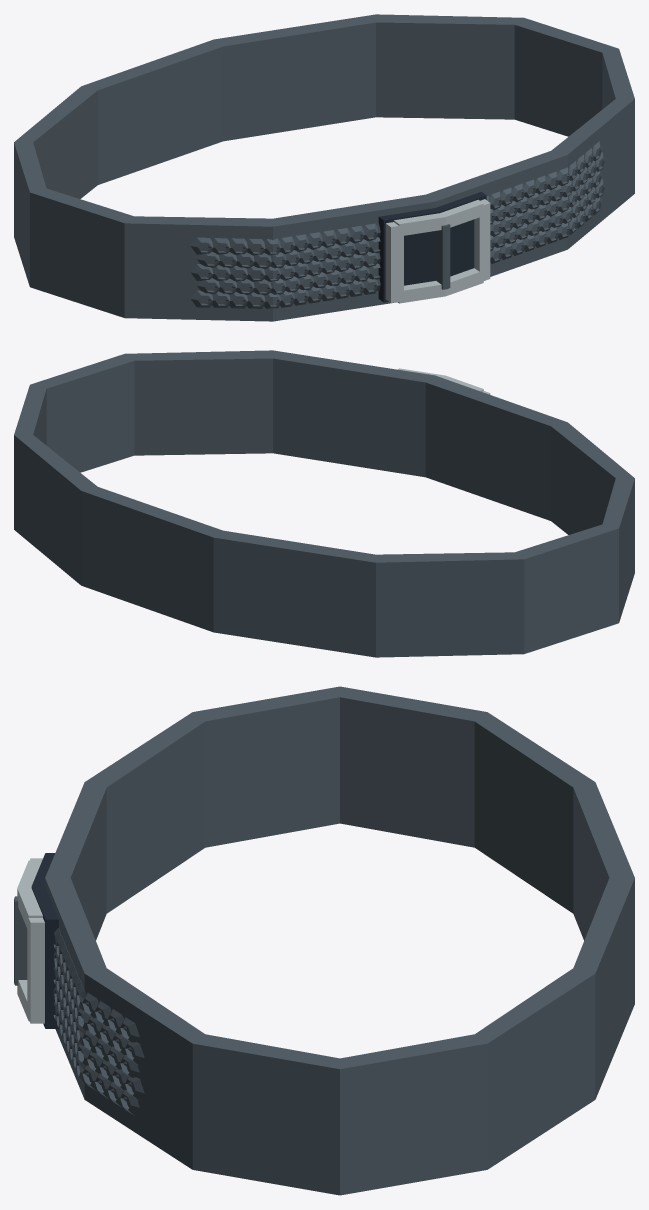
Rendered from chain_waist-male.glb.
3 renders of one model, top to bottom at view 1: azimuth 30°, elevation 25°; view 2: azimuth 150°, elevation 25°; view 3: azimuth 270°, elevation 25°, orthographic. The views are drawn at different scales.
Parts seen in each view (by area): view 1: chain waist band, chain woven coverage on chain waist band, Buckle recessed backplate, Buckle cross rail 4.506, Buckle side rail -0.145, Buckle cross rail 4.294, Buckle side rail 0.145, Buckle pin; view 2: chain waist band; view 3: chain waist band, chain woven coverage on chain waist band, Buckle recessed backplate, Buckle side rail 0.145, Buckle cross rail 4.506, Buckle pin.
Part boxes in pixels (x1,y1,x2,y2): chain waist band: (14, 14, 634, 321); chain woven coverage on chain waist band: (190, 141, 605, 308); Buckle recessed backplate: (378, 191, 486, 302); Buckle cross rail 4.506: (393, 199, 483, 235); Buckle side rail -0.145: (385, 222, 403, 302); Buckle cross rail 4.294: (397, 268, 483, 303); Buckle side rail 0.145: (474, 199, 490, 282); Buckle pin: (436, 224, 450, 289); chain waist band: (14, 350, 634, 657); chain waist band: (45, 686, 634, 1195); chain woven coverage on chain waist band: (53, 928, 144, 1115); Buckle recessed backplate: (31, 853, 58, 1028); Buckle side rail 0.145: (27, 918, 44, 1023); Buckle cross rail 4.506: (17, 860, 42, 931); Buckle pin: (14, 896, 27, 985).
Bounding box in the file's own units: 1.95 × 0.3 × 1.34.
